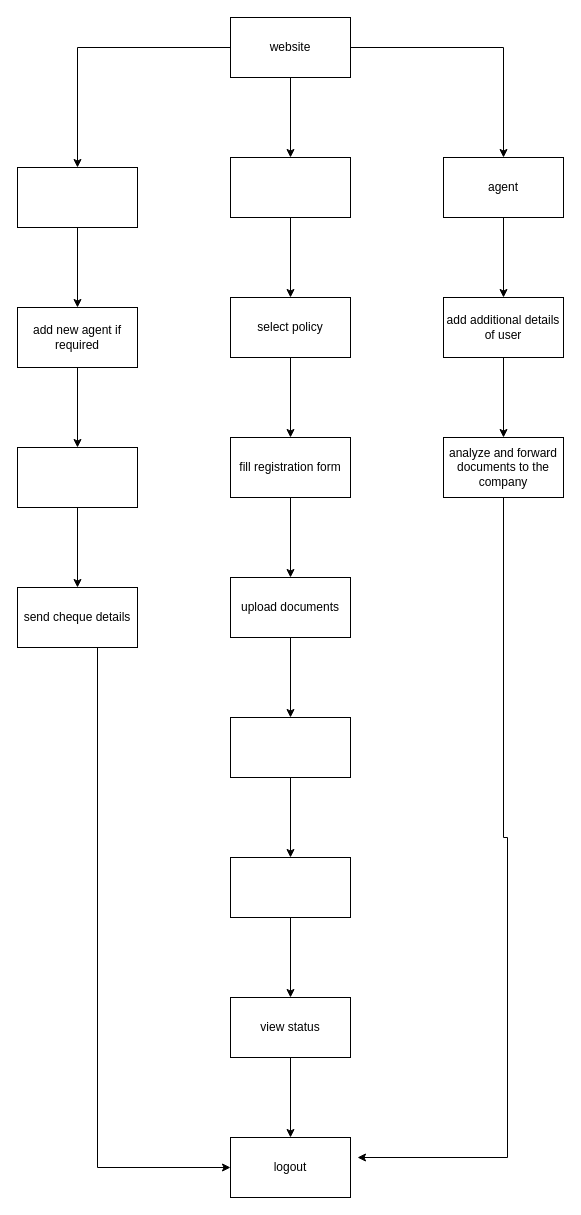
Some shapes in this 581 by 1215 pixel diagram are drawn without their labels. The shapes that lost their labels are listed below. From the top down, each one's box as (x1, y1, x2, y2) in pixels, then its label:
(16, 166, 138, 228): admin
(230, 156, 350, 218): user
(16, 446, 138, 508): accept/reject policy request and claim request
(230, 716, 350, 778): login after receiving credentials
(230, 856, 350, 918): apply for claim and upload documents
